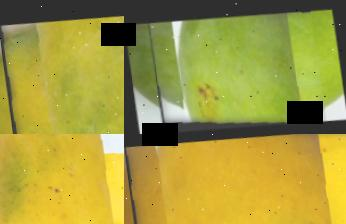PartiallyRipe: (0, 0, 124, 134)
Ripe: (124, 134, 346, 224), (0, 134, 124, 224)
Unripe: (148, 3, 326, 134)
